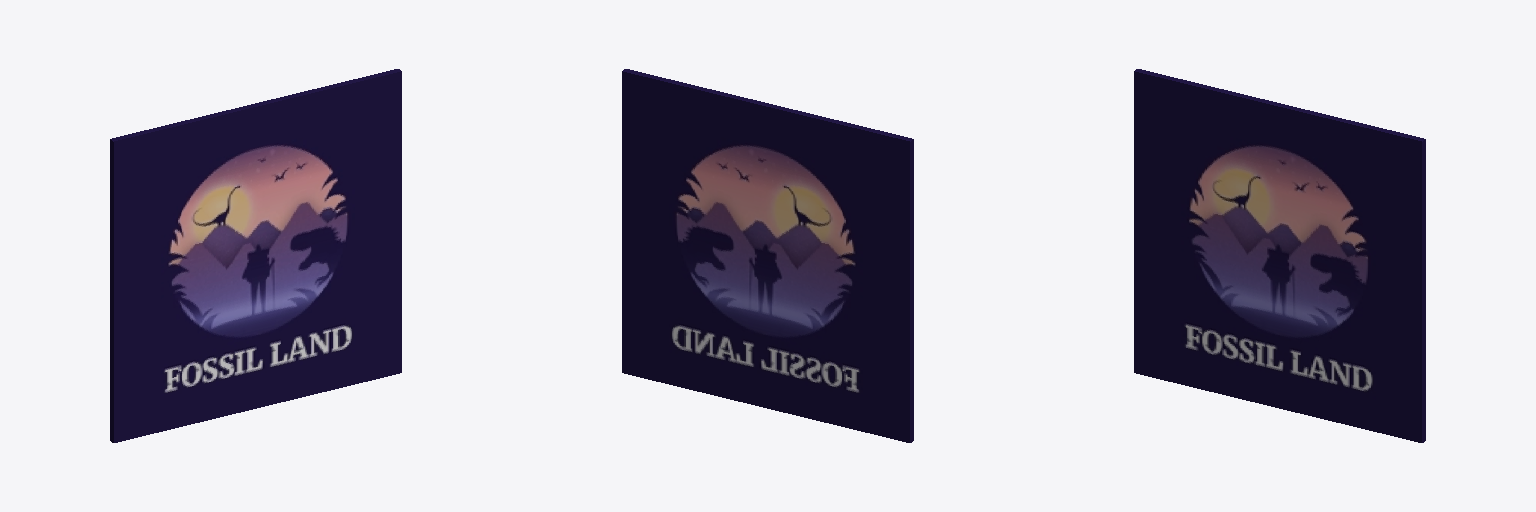
3 renders of one model, left to right at view 1: azimuth 30°, elevation 25°; view 2: azimuth 150°, elevation 25°; view 3: azimuth 330°, elevation 25°, orthographic.
Parts seen in each view (by area): view 1: pCube1; view 2: pCube1; view 3: pCube1.
Boxes of the visible parts, box(x1,y1,x2,y2) form: pCube1: box(110, 69, 401, 442); pCube1: box(622, 69, 913, 442); pCube1: box(1134, 69, 1425, 442).
Size of the model in its own units: 3.97 by 3.97 by 0.0882.
Materials: 1 (1 with a texture image).